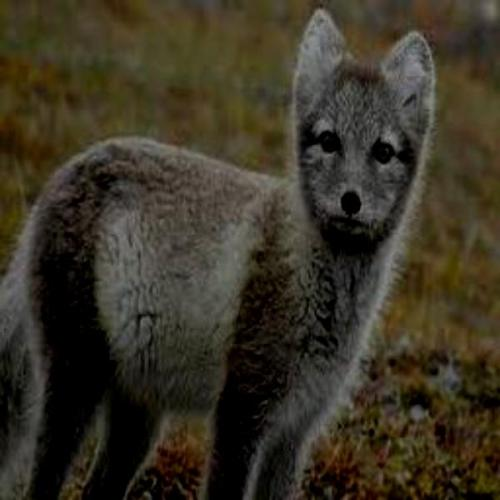arctic_fox-endangered: (20, 28, 426, 494)
